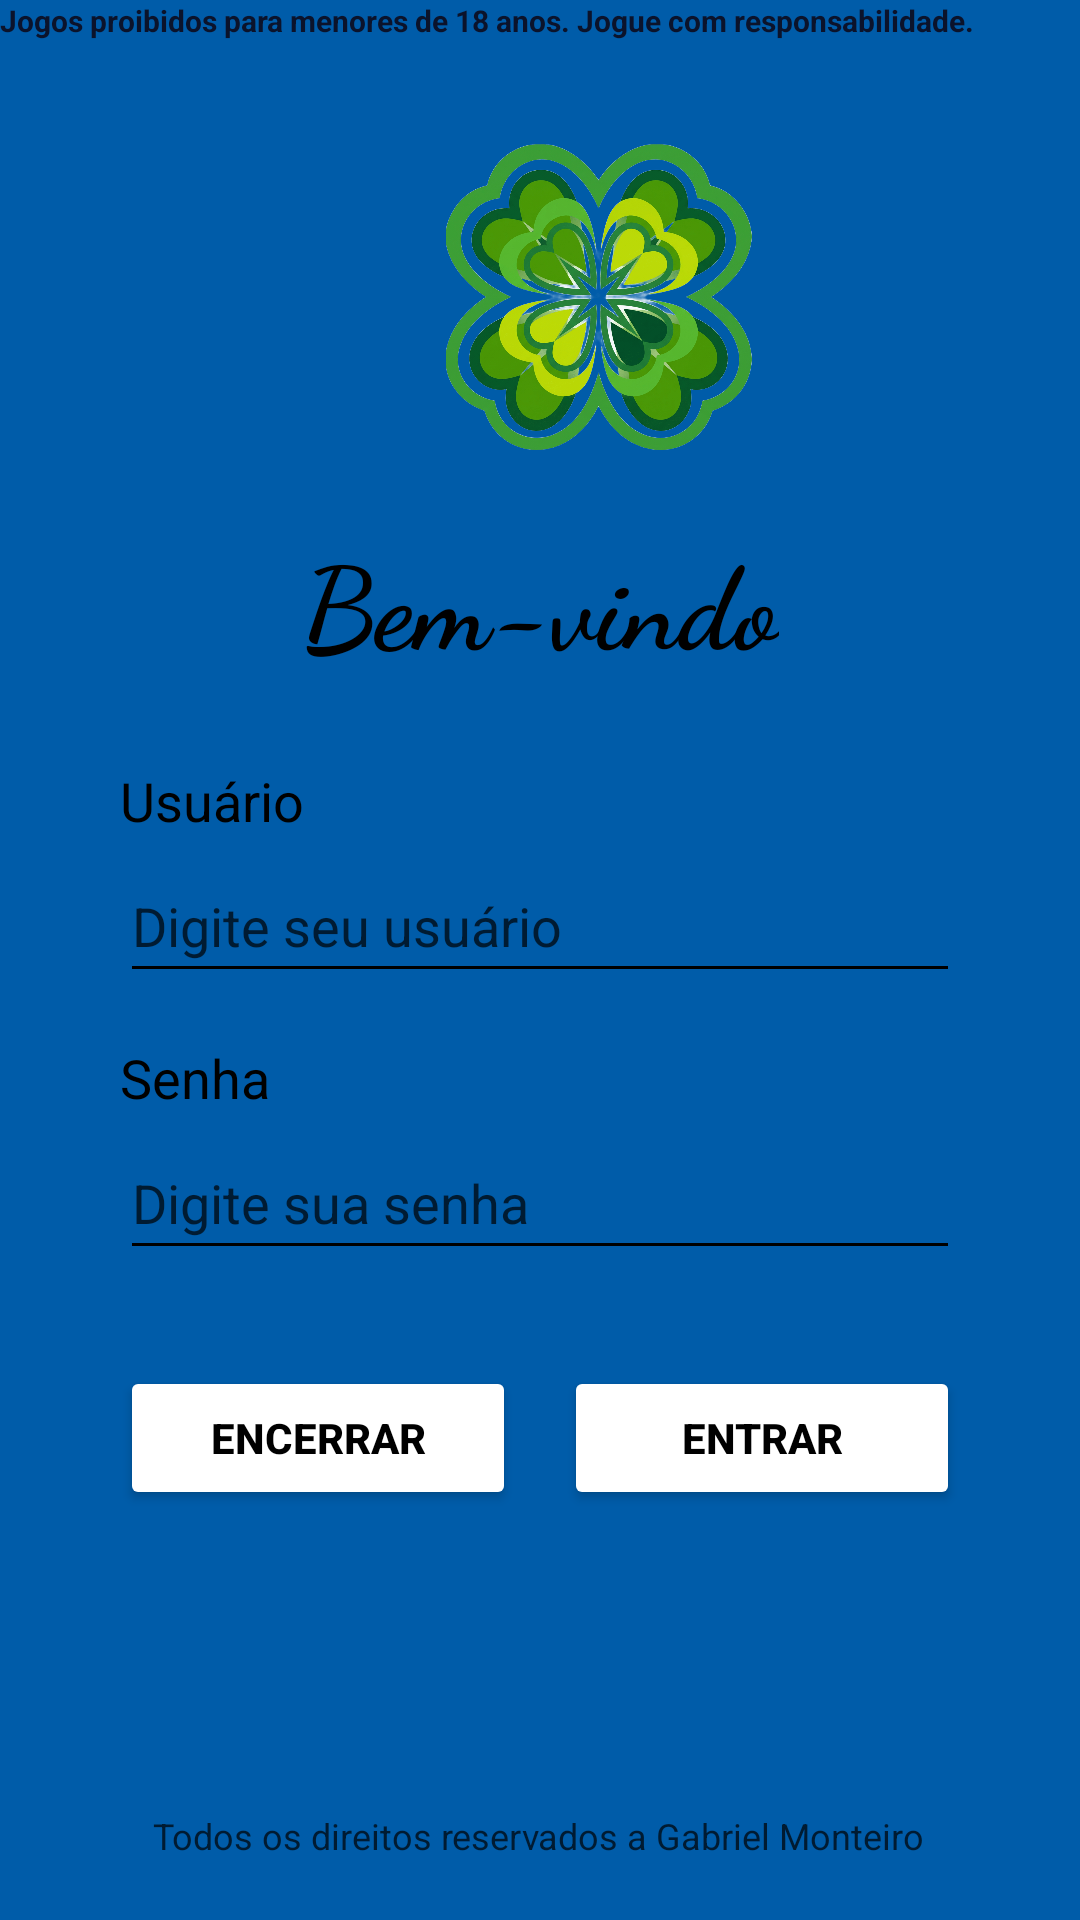

Screen size 1080 × 1920. Icon name, then its center in pixels as (x=x, y=y):
trevo: (x=599, y=297)
